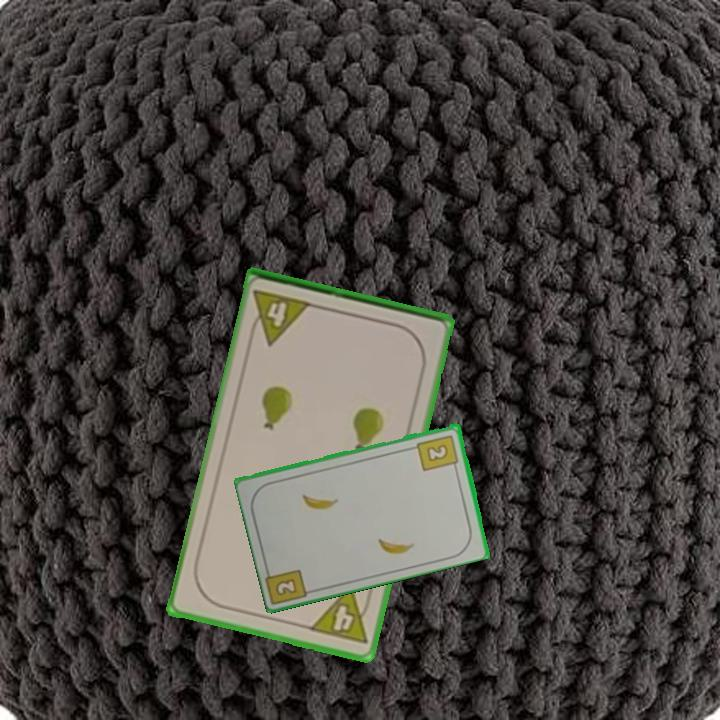2b: (414, 431, 462, 474), (272, 575, 300, 599)
4p: (305, 583, 376, 648), (245, 286, 315, 348)
